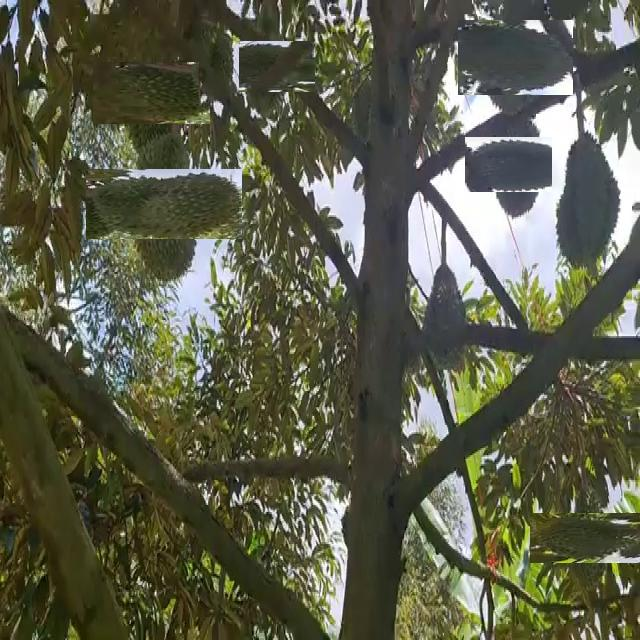durian: (108, 147, 221, 261), (552, 128, 626, 270), (468, 10, 564, 105), (106, 48, 196, 137), (546, 496, 632, 581), (478, 124, 558, 205), (417, 257, 470, 374), (226, 28, 303, 106), (199, 18, 239, 106)
